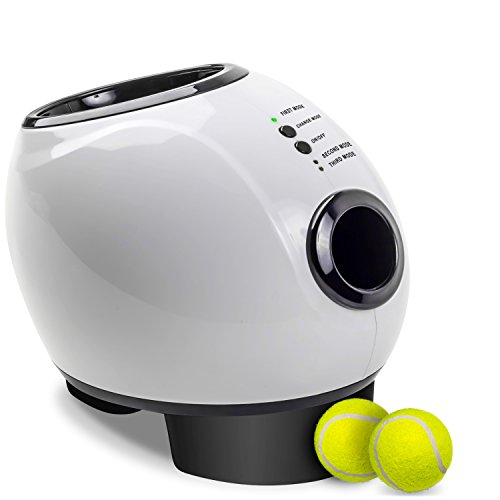tennis_ball: (313, 396, 392, 484), (373, 407, 452, 493)
